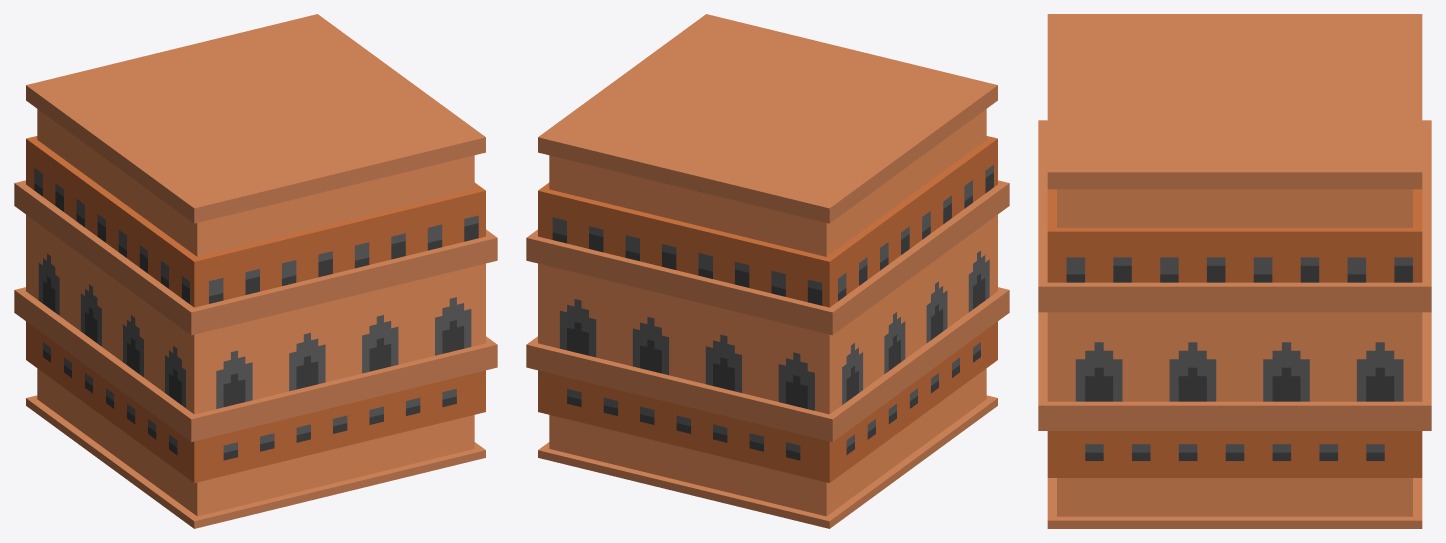
The model's file is Tower_7.fbx.
The picture shows the model from 3 angles, left to right: view 1: azimuth 30°, elevation 25°; view 2: azimuth 150°, elevation 25°; view 3: azimuth 270°, elevation 25°; orthographic projection. The views are drawn at different scales.
Parts seen in each view (by area): view 1: Box; view 2: Box; view 3: Box.
Boxes of the visible parts, left/top/right/bottom form: Box: left=14, top=14, right=497, bottom=528; Box: left=526, top=14, right=1009, bottom=528; Box: left=1038, top=14, right=1431, bottom=528.
Bounding box in the file's own units: 42 × 42 × 42.
Materials: 1 (1 with a texture image).
